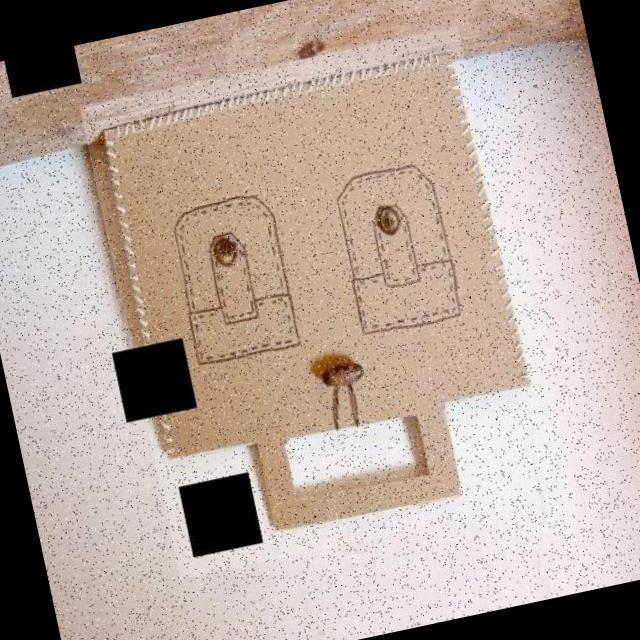box: (79, 25, 558, 579)
